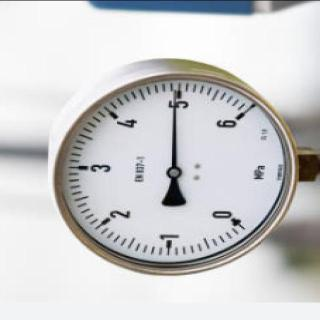gauge: (45, 51, 314, 282), (215, 106, 253, 138), (210, 203, 250, 233), (166, 166, 182, 178), (170, 83, 180, 97)
